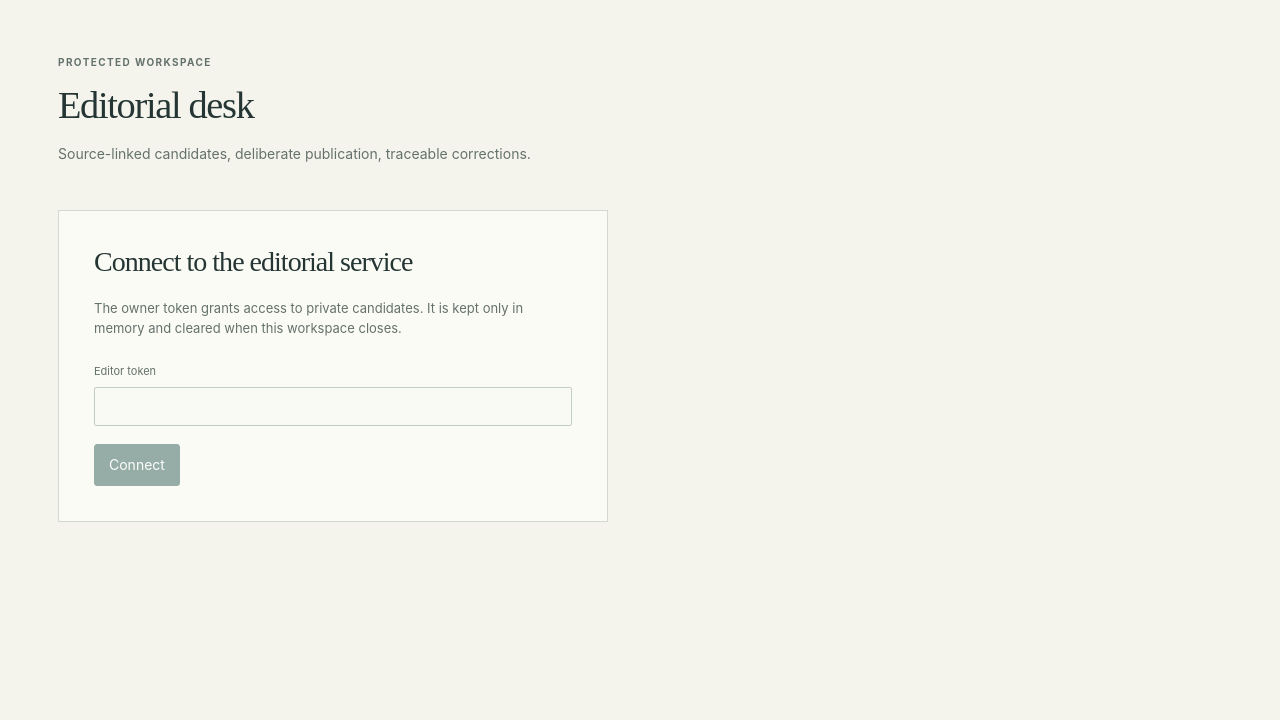
Test: authenticated editorial contract › creates strict source records without forbidden shared fields
Later steps or results of the test are not shown.
Type "test-runtime-token" into the password field labelled "Editor token".
click(333, 407); type("test-runtime-token")  # box [94, 387, 572, 426]
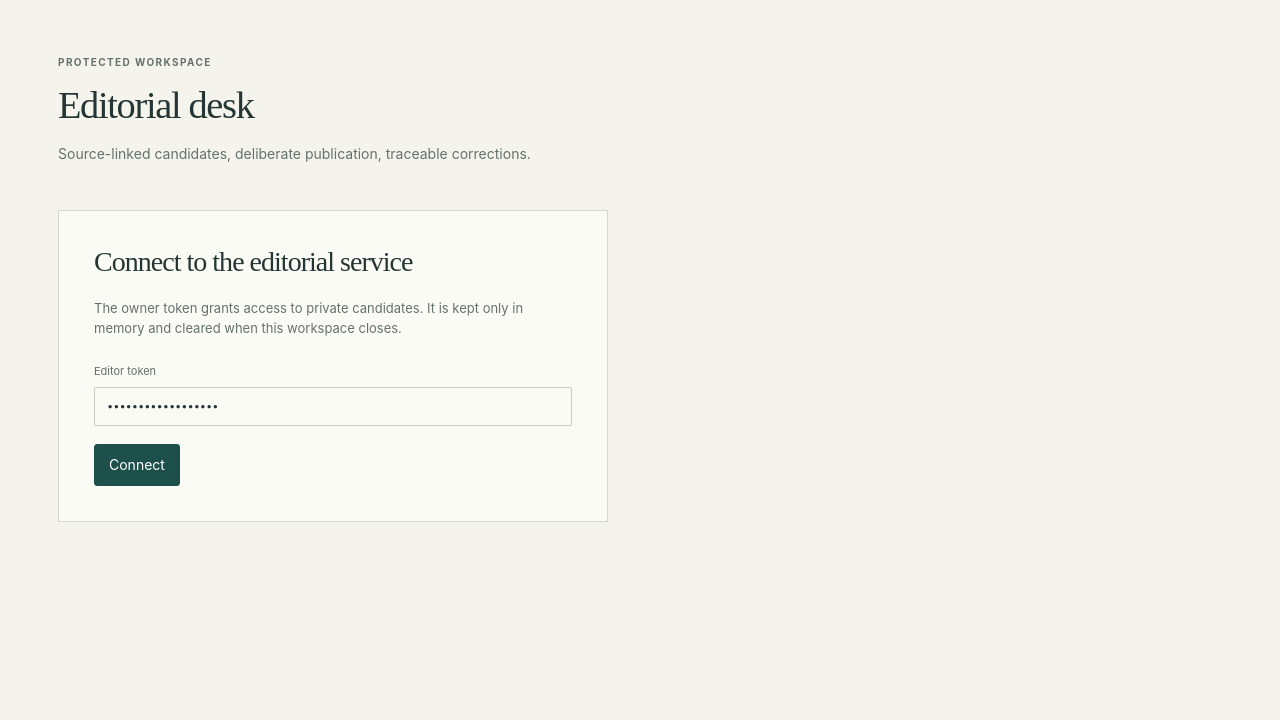
Click the button "Connect".
click(137, 465)  # box [94, 444, 180, 486]
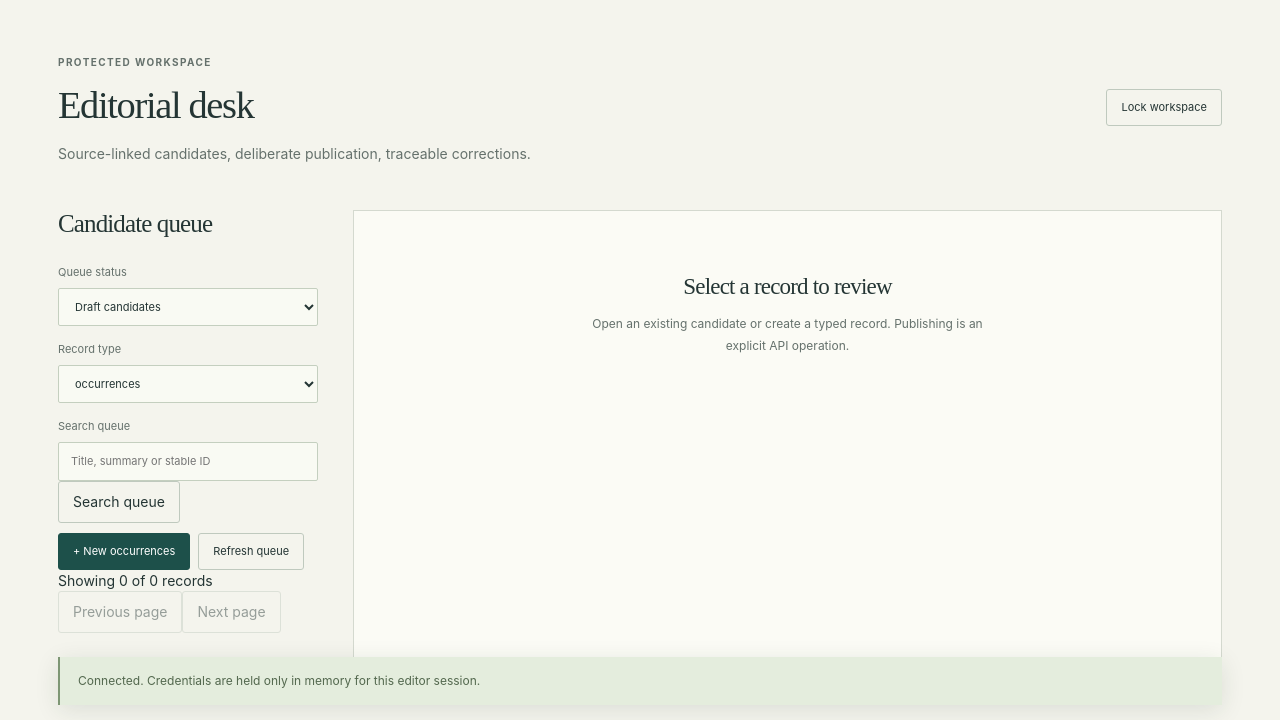
Expected: the heading "Candidate queue" is shown, [58, 210, 212, 237]
